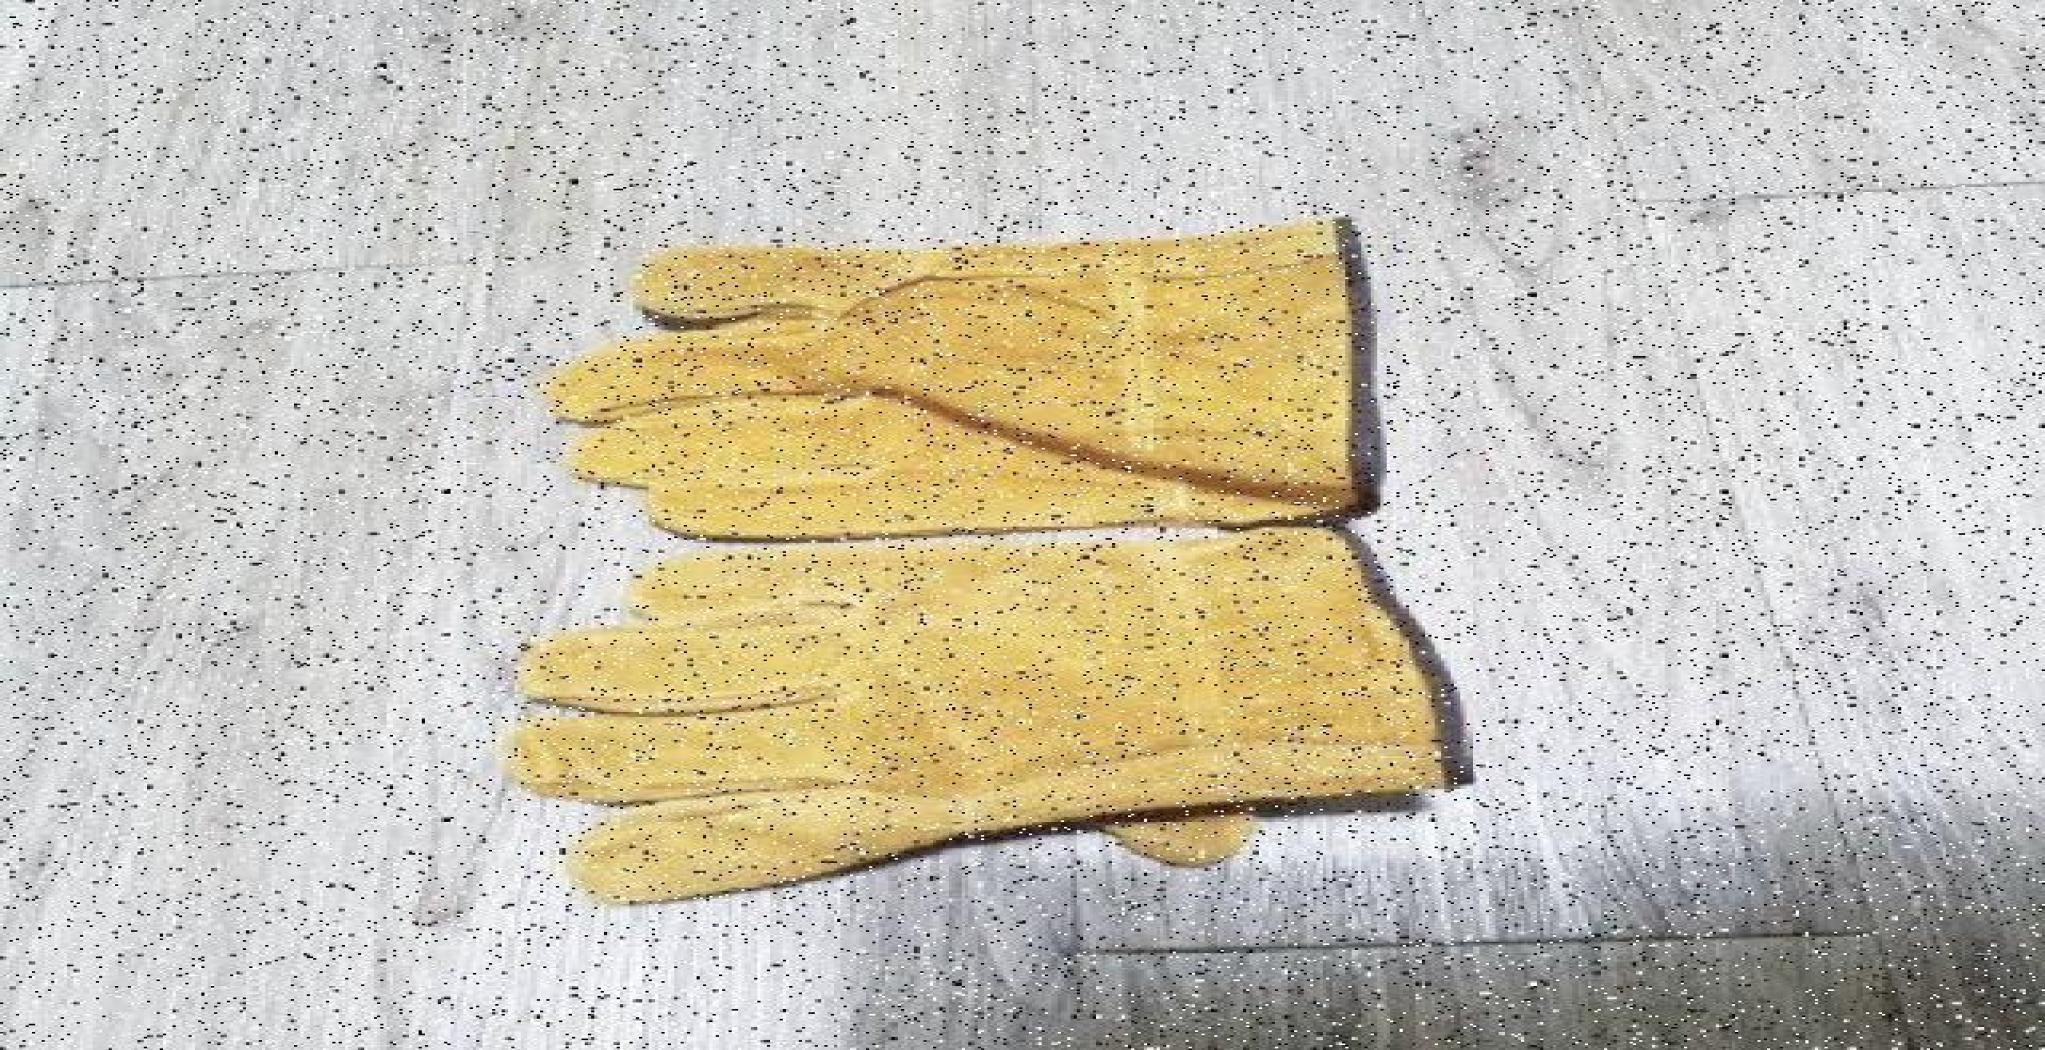gloved: (544, 536, 1468, 901), (557, 236, 1429, 541)
